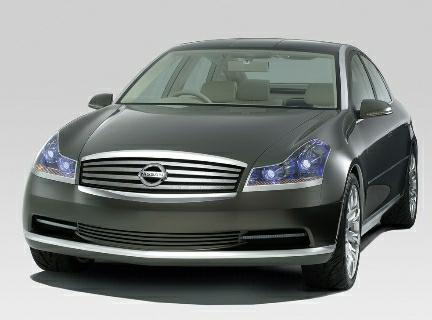car: (16, 33, 425, 297)
